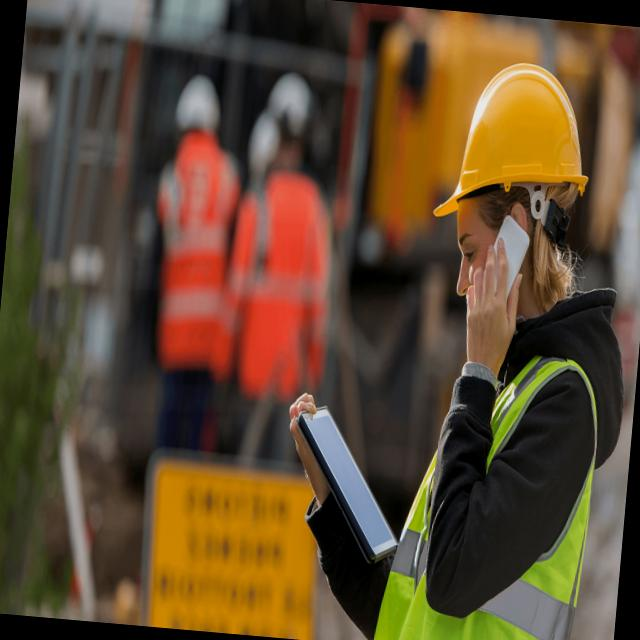helmet: (452, 52, 603, 218)
no-goggles: (451, 220, 504, 276)
vest: (373, 338, 605, 640)
